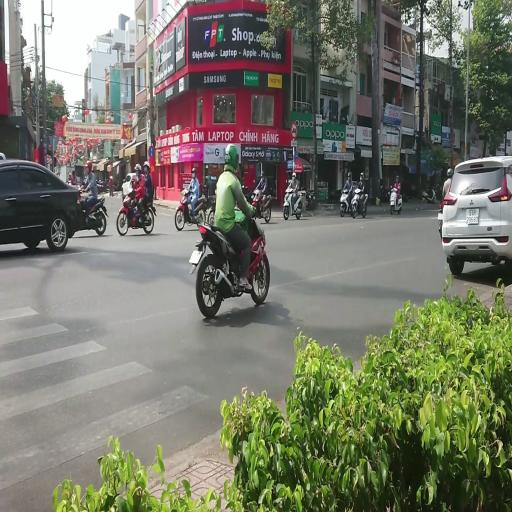bikes: (189, 212, 270, 318), (116, 187, 155, 235), (207, 186, 253, 226), (74, 185, 108, 236), (122, 173, 156, 216), (174, 188, 206, 231), (250, 188, 272, 222), (283, 187, 302, 220), (350, 186, 368, 218), (340, 184, 356, 216), (388, 184, 402, 214), (207, 194, 217, 226), (421, 185, 437, 204), (438, 199, 444, 240), (305, 189, 315, 209), (96, 177, 108, 193)
helmet: (224, 144, 238, 170), (134, 163, 142, 173), (143, 160, 150, 171), (242, 185, 250, 194), (86, 160, 92, 168), (447, 168, 453, 176), (191, 167, 197, 174), (254, 189, 260, 196), (126, 174, 132, 181), (358, 180, 363, 188), (182, 189, 188, 195), (260, 170, 265, 176), (347, 172, 352, 178), (355, 188, 360, 194), (435, 184, 440, 190), (128, 188, 133, 194), (292, 172, 296, 178), (360, 173, 364, 179), (397, 183, 401, 189), (242, 184, 246, 190), (286, 170, 290, 176), (72, 170, 76, 175), (390, 185, 394, 190), (109, 175, 113, 179), (360, 172, 364, 176), (396, 176, 399, 181), (68, 172, 71, 176)
